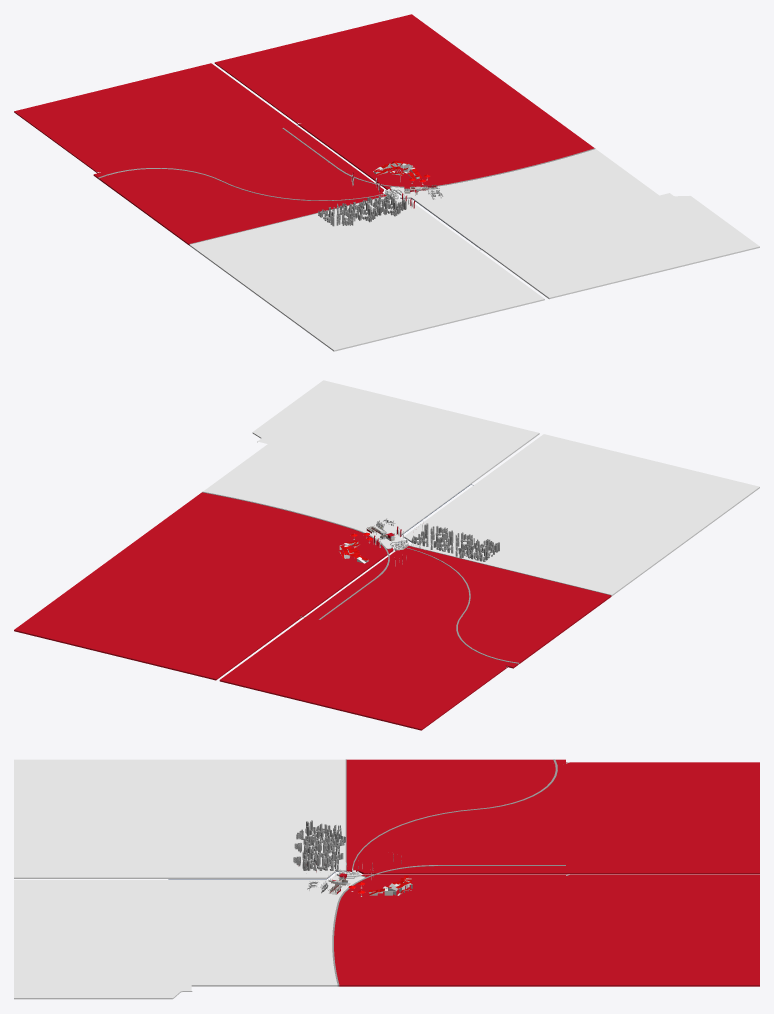
File: mapGround.glb
The picture shows the model from 3 angles, top to bottom: view 1: azimuth 30°, elevation 25°; view 2: azimuth 150°, elevation 25°; view 3: azimuth 270°, elevation 25°; orthographic projection. The views are drawn at different scales.
Parts seen in each view (by area): view 1: group_0.016, group_0.005, group_0.007, group_0.034, group_0.001, group_0.004, group_0.033, group_0.006, group_0.003; view 2: group_0.016, group_0.007, group_0.005, group_0.001, group_0.034, group_0.033, group_0.004, group_0.006, group_0.003; view 3: group_0.016, group_0.005, group_0.007, group_0.001, group_0.034, group_0.004, group_0.033, group_0.006, group_0.003, cbd (2).001, cbd (2).002, cbd (2) (+1 smaller).
Part boxes in pixels (x1,y1,x2,y2): group_0.016: [14, 63, 309, 175]; group_0.005: [299, 76, 594, 190]; group_0.007: [214, 14, 509, 127]; group_0.034: [472, 193, 759, 299]; group_0.001: [93, 135, 386, 245]; group_0.004: [189, 196, 476, 302]; group_0.033: [258, 248, 544, 351]; group_0.006: [391, 149, 658, 249]; group_0.003: [98, 128, 595, 245]; group_0.016: [219, 606, 512, 730]; group_0.007: [14, 556, 306, 680]; group_0.005: [115, 492, 393, 616]; group_0.001: [321, 546, 611, 668]; group_0.034: [252, 380, 539, 490]; group_0.033: [473, 434, 759, 545]; group_0.004: [404, 484, 682, 596]; group_0.006: [203, 444, 470, 548]; group_0.003: [202, 491, 611, 664]; group_0.016: [527, 762, 759, 874]; group_0.005: [334, 874, 565, 986]; group_0.007: [528, 874, 759, 986]; group_0.001: [346, 759, 565, 873]; group_0.034: [14, 880, 192, 999]; group_0.004: [168, 759, 345, 878]; group_0.033: [14, 759, 168, 878]; group_0.006: [191, 875, 364, 986]; group_0.003: [332, 759, 565, 986]; cbd (2).001: [293, 851, 343, 870]; cbd (2).002: [296, 820, 345, 842]; cbd (2): [294, 837, 344, 857].
Size of the model in its own units: 3.06 by 0.0931 by 4.04.
